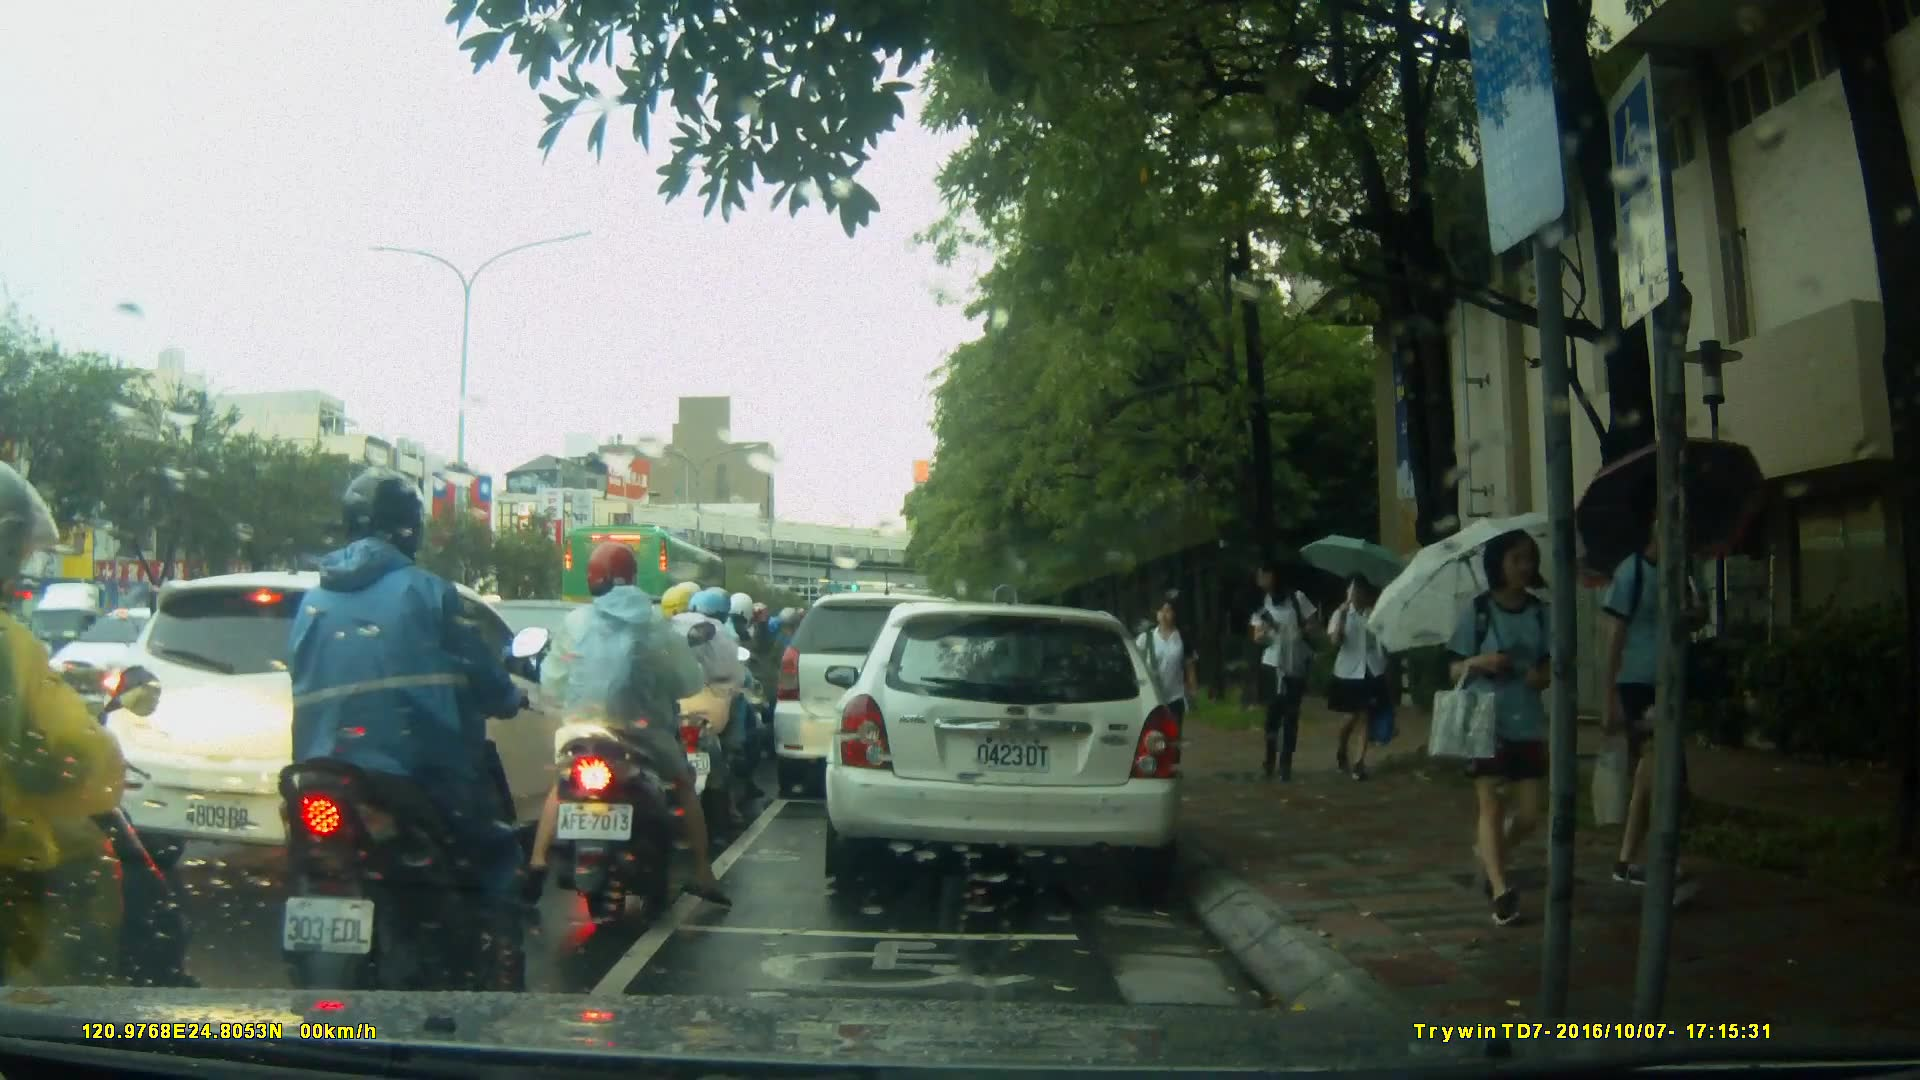pedestrian: (1442, 510, 1590, 938), (1590, 469, 1729, 907), (1314, 563, 1397, 780), (1246, 562, 1323, 783), (1127, 587, 1205, 780)
rider: (284, 473, 558, 1014), (1, 455, 181, 1080), (542, 544, 745, 925), (634, 580, 768, 841), (678, 594, 767, 786)
vehicle: (93, 569, 617, 883), (822, 604, 1187, 883), (774, 595, 995, 802), (573, 526, 750, 656), (20, 576, 199, 697), (52, 608, 209, 703)
